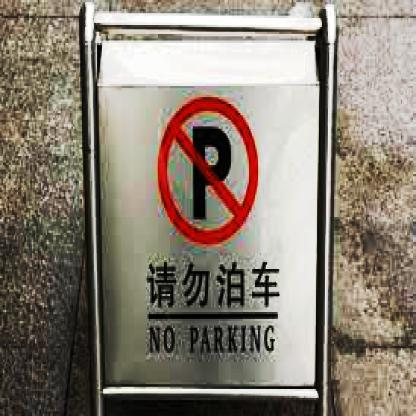No parking: (153, 85, 264, 253)
